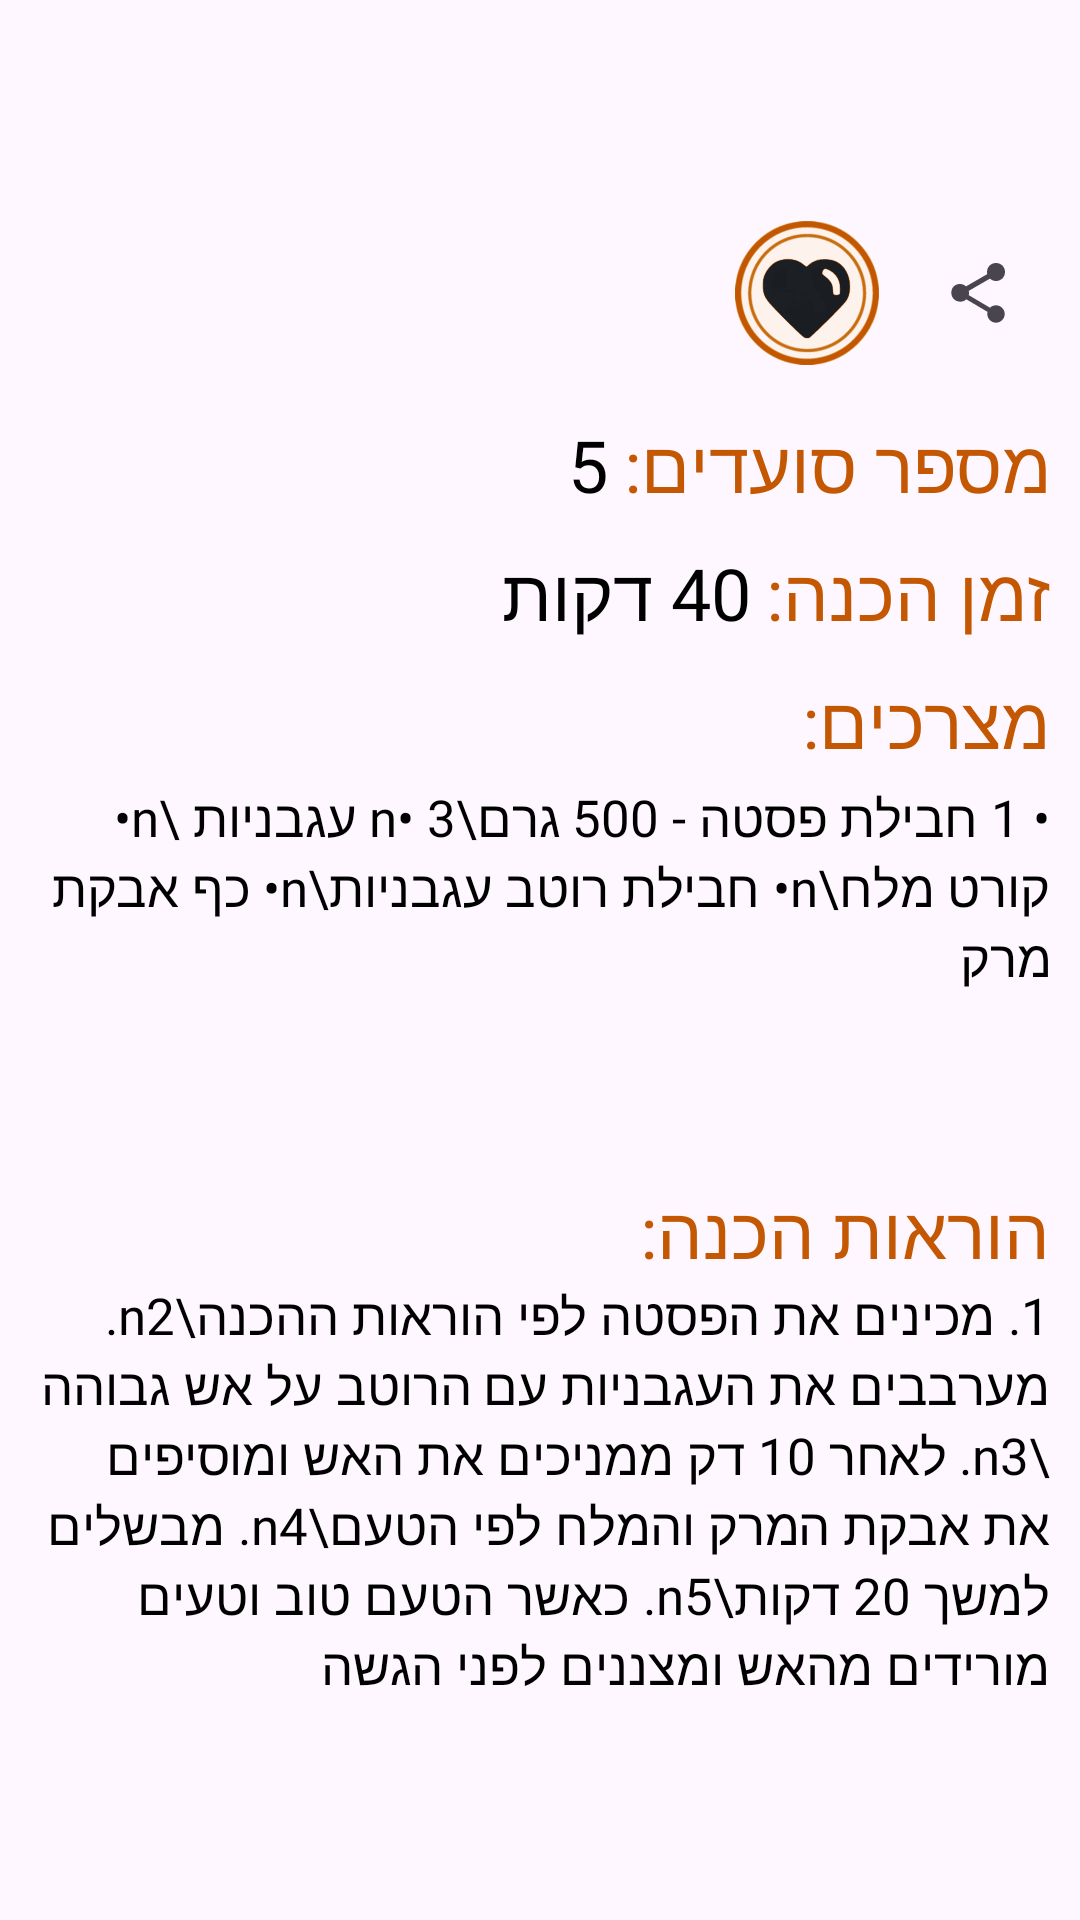

Named icons in this screenshot (1080w x 1920h) and their centers, (x=x, y=y):
Save: (x=807, y=293)
Share: (x=978, y=293)
